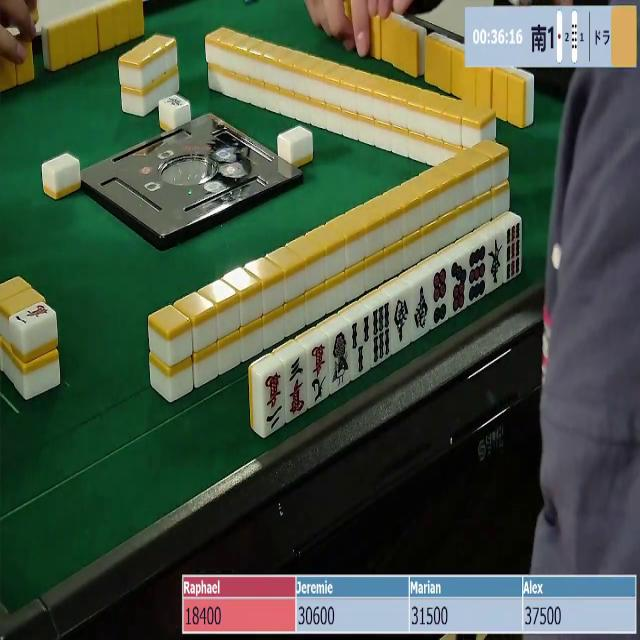1B: (331, 327, 349, 388)
1C: (10, 296, 52, 333)
2C: (255, 368, 286, 433)
3B: (349, 316, 371, 378)
3C: (285, 356, 308, 418)
6B: (370, 303, 394, 367)
6D: (428, 266, 451, 328)
7D: (449, 258, 469, 314)
9B: (506, 220, 524, 281)
9C: (307, 340, 330, 405)
9D: (467, 244, 489, 304)
EW: (486, 234, 504, 288)
SW: (391, 293, 411, 349), (412, 282, 432, 338)
